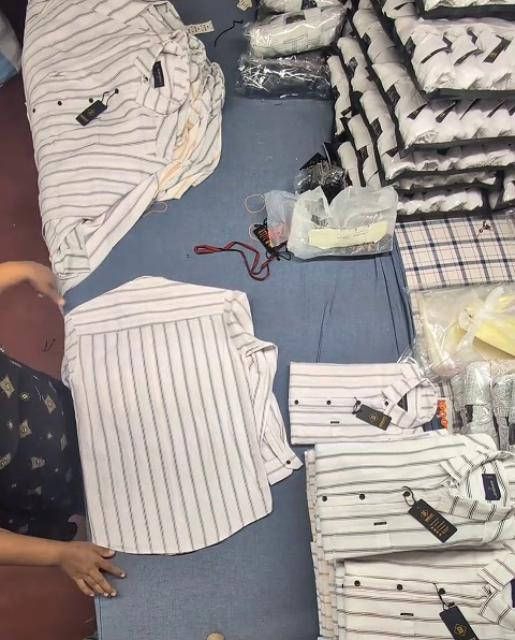new-garment: (63, 277, 301, 554)
